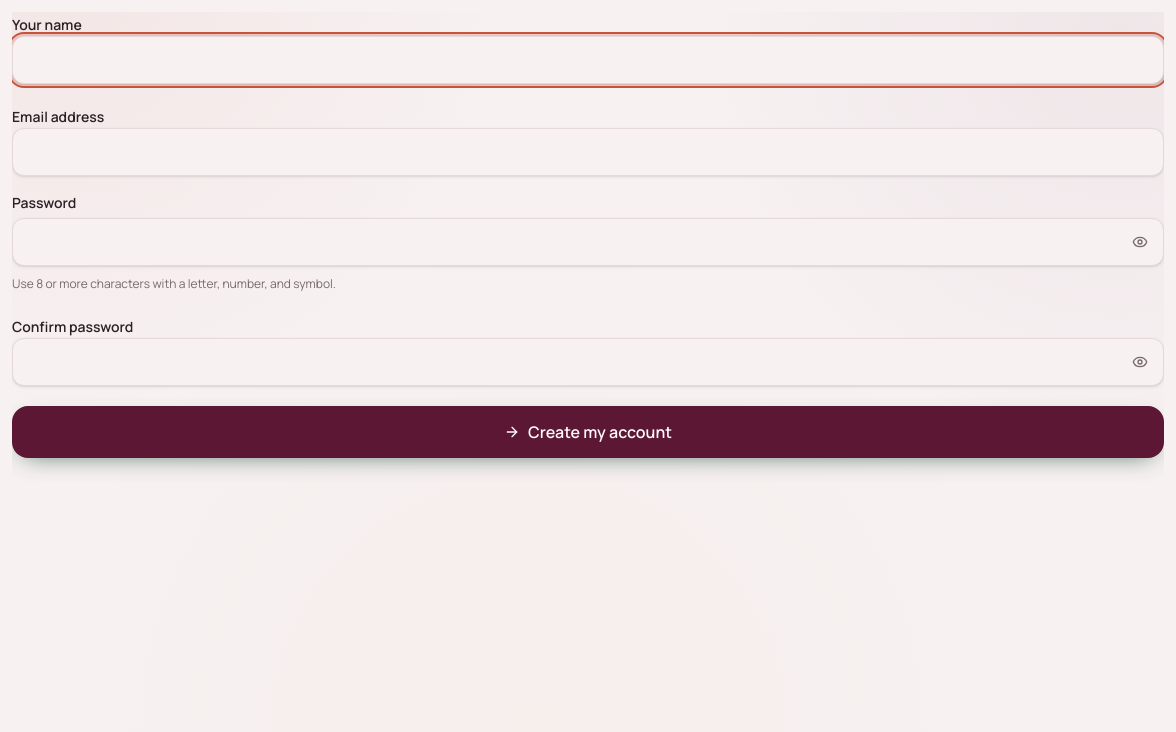
Test case: AuthForm password controls › preserves every entry when account creation returns an error
The image size is (1176, 732).
Type "Amina" into the field labelled "Your name" at (588,60), box [12,36,1164,84]
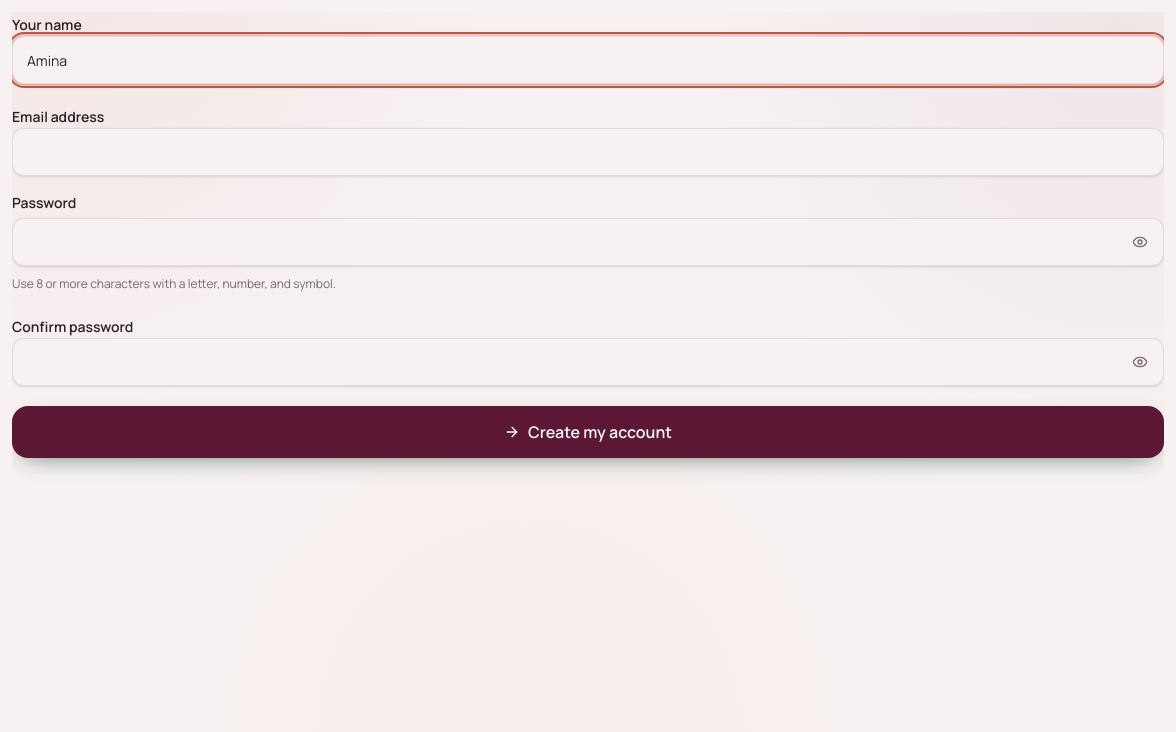
Type "amina@example.com" into the field labelled "Email address" at (588,152), box [12,128,1164,176]
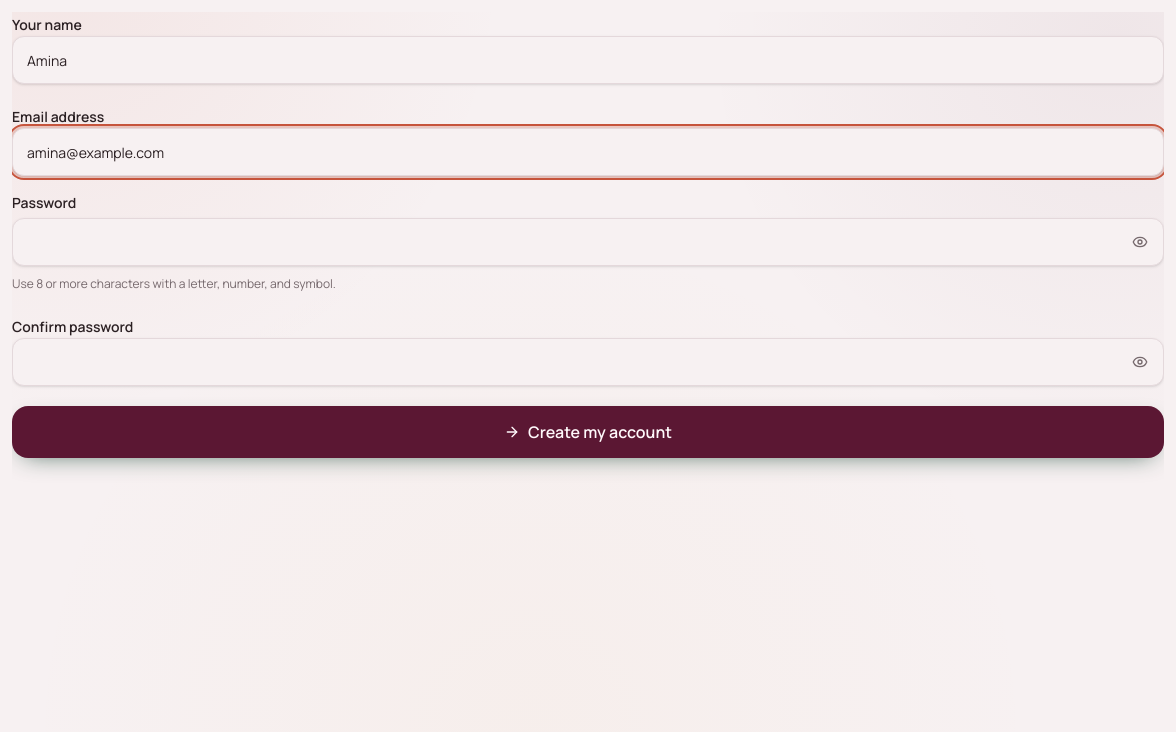
Type "Chapati#42" into the password field labelled "Password" at (588,242), box [12,218,1164,266]
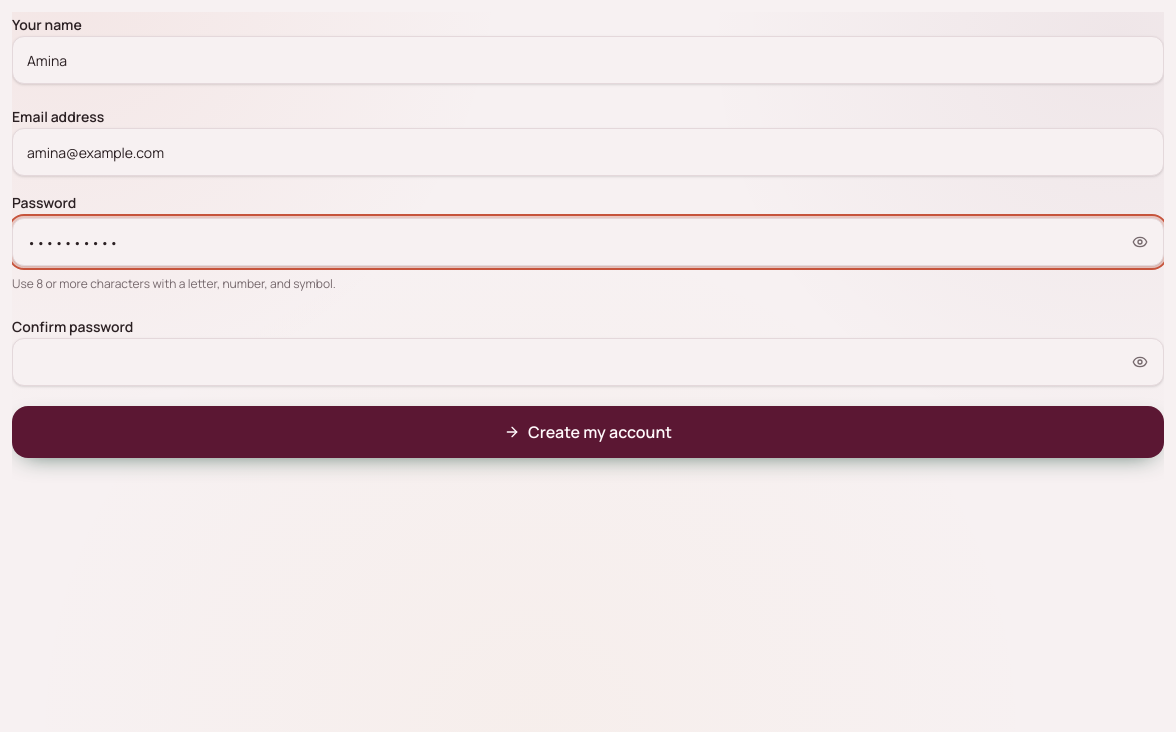
Type "Chapati#42" into the password field labelled "Confirm password" at (588,362), box [12,338,1164,386]
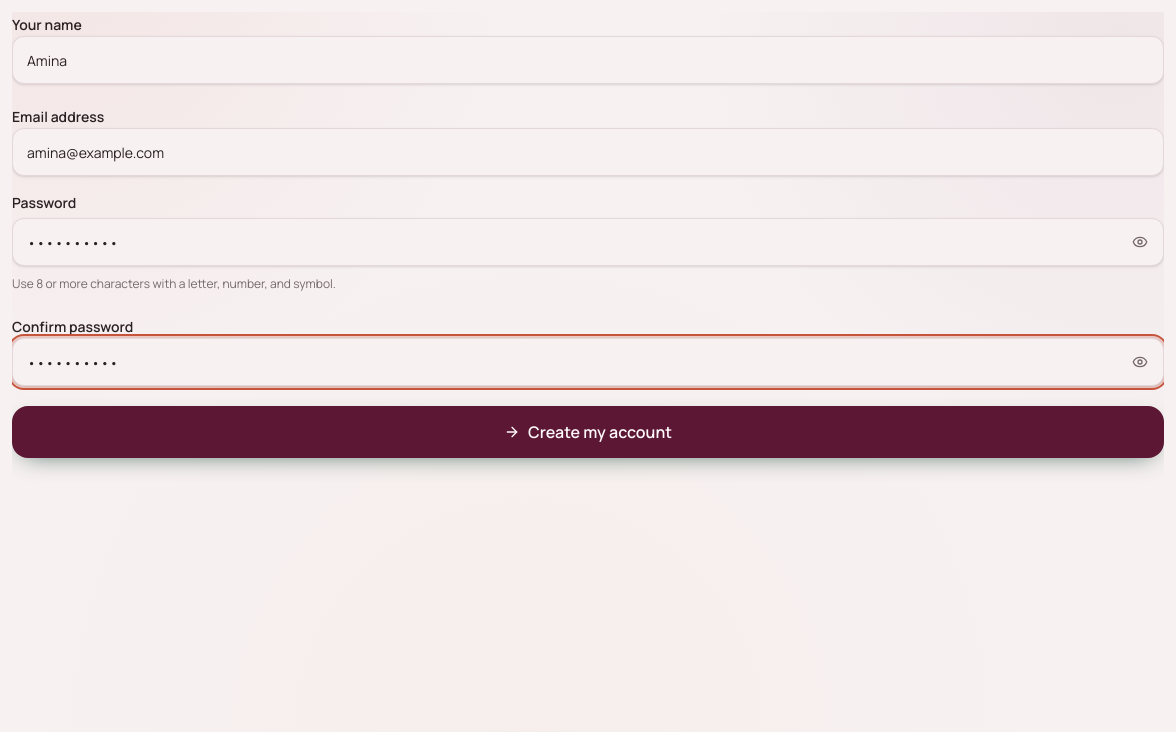
Click the button "Create my account" at (588,432), box [12,406,1164,458]
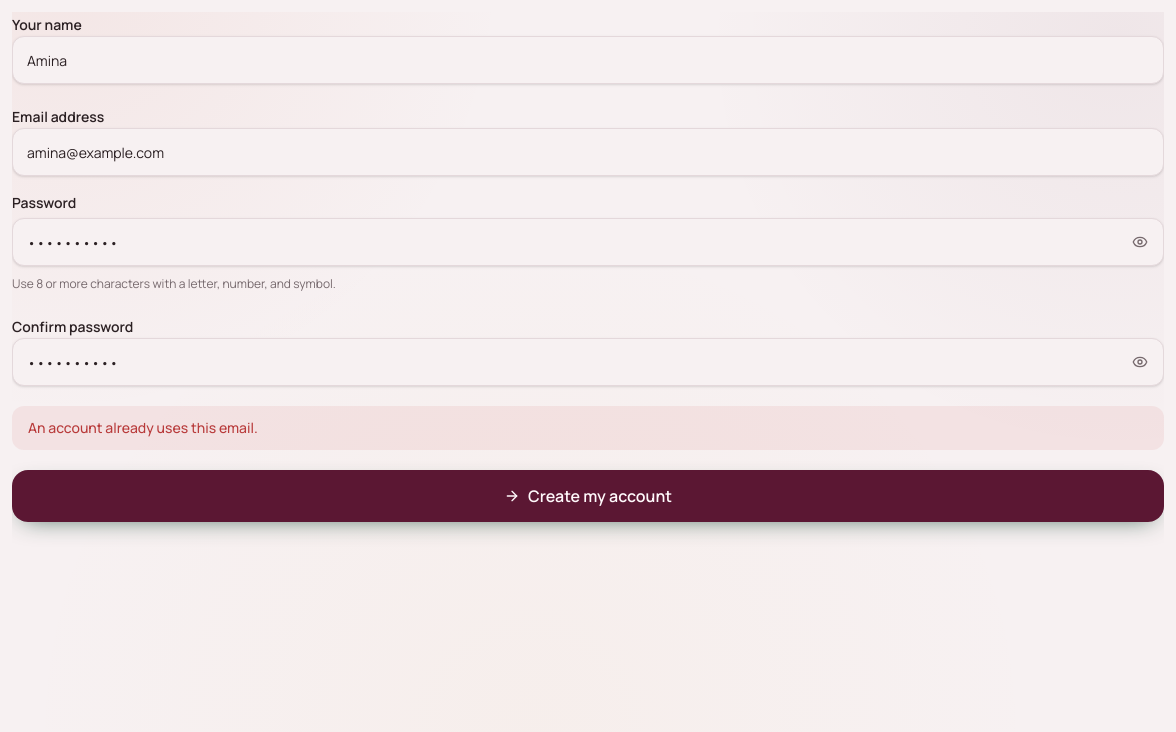
Expected: the message reads "An account already uses this email.", [28,418,258,437]
